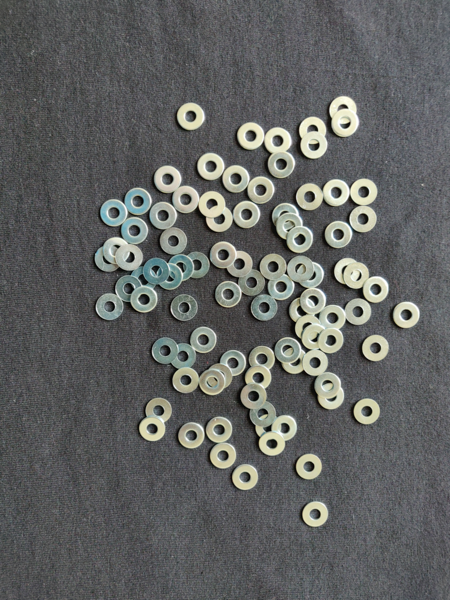circle: (301, 500, 331, 531), (94, 294, 125, 324), (174, 102, 206, 131), (294, 182, 324, 212), (322, 176, 351, 207), (213, 278, 242, 309), (352, 397, 382, 426), (153, 164, 182, 194), (170, 186, 200, 215), (327, 96, 358, 124), (392, 301, 421, 330), (324, 221, 353, 250), (150, 201, 179, 230), (221, 164, 250, 193), (263, 125, 292, 154), (362, 276, 392, 304), (208, 443, 238, 471), (177, 420, 205, 450), (205, 205, 235, 233), (234, 201, 262, 231), (144, 396, 175, 423), (316, 384, 348, 410), (350, 178, 379, 206), (237, 269, 266, 297), (208, 241, 237, 269), (170, 294, 199, 322), (130, 286, 159, 314), (131, 267, 159, 296), (196, 153, 225, 181), (331, 109, 360, 137), (95, 245, 122, 275), (120, 218, 150, 245), (123, 189, 154, 215), (271, 415, 299, 443), (287, 256, 315, 284), (259, 253, 287, 281), (169, 342, 197, 370), (158, 227, 186, 255), (198, 191, 226, 219), (248, 176, 276, 204), (206, 414, 233, 443), (274, 338, 303, 365), (250, 294, 279, 321), (190, 325, 217, 354), (185, 250, 212, 279), (101, 198, 128, 227), (268, 152, 297, 179), (171, 368, 201, 394), (314, 372, 342, 399), (345, 299, 373, 326), (333, 257, 360, 285), (233, 464, 260, 492), (255, 413, 283, 440), (250, 401, 277, 429), (249, 345, 276, 373), (302, 349, 329, 377), (297, 261, 325, 288), (288, 226, 315, 254), (238, 122, 265, 150), (302, 133, 330, 160), (299, 117, 327, 144), (361, 336, 390, 362), (344, 261, 370, 290), (138, 416, 167, 442), (267, 274, 296, 300), (104, 236, 130, 265), (272, 203, 301, 229), (275, 214, 305, 239), (320, 305, 347, 332), (220, 349, 247, 376), (151, 338, 178, 365), (297, 454, 323, 482), (349, 205, 375, 233), (317, 329, 345, 355), (199, 369, 225, 397), (116, 245, 144, 271), (241, 383, 267, 410), (300, 288, 327, 314), (226, 251, 253, 277), (115, 276, 142, 302), (143, 257, 169, 284), (169, 254, 195, 281), (206, 365, 234, 390), (290, 297, 315, 324), (244, 367, 273, 390), (282, 348, 307, 374), (301, 325, 327, 350), (158, 264, 182, 291), (258, 433, 285, 456), (295, 316, 322, 338)
